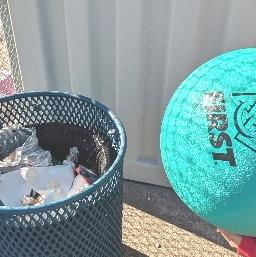algae: (158, 46, 256, 237)
